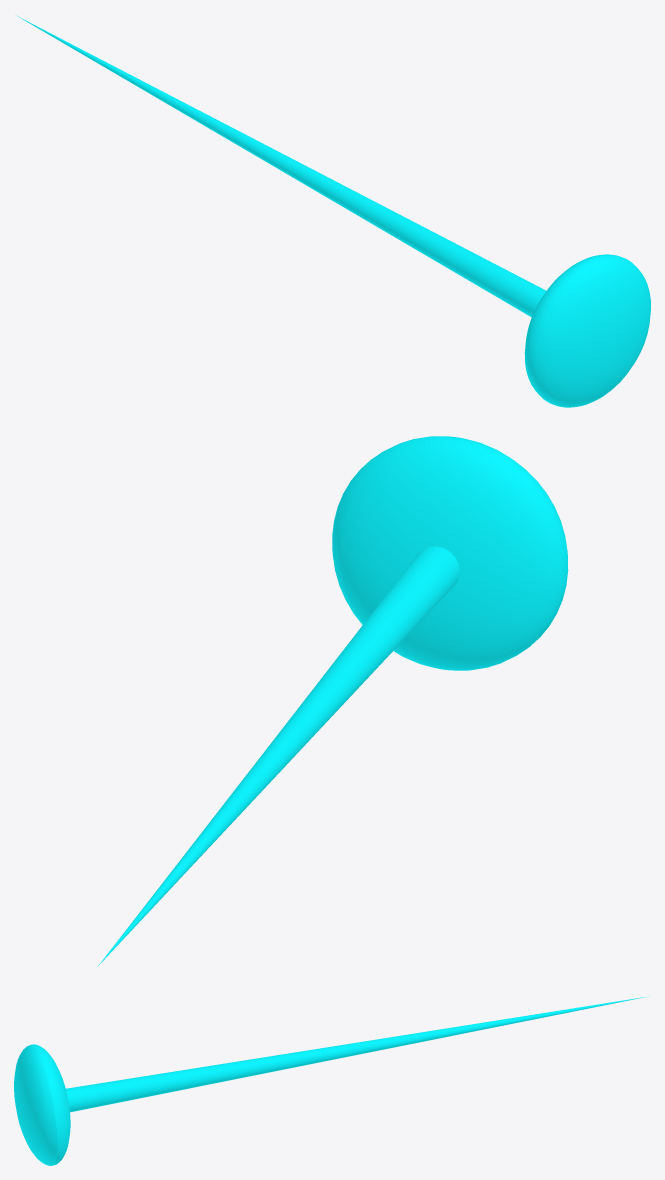
File: nyt_insight__model___Mars_curiosity.glb
The picture shows the model from 3 angles, top to bottom: view 1: azimuth 30°, elevation 25°; view 2: azimuth 150°, elevation 25°; view 3: azimuth 270°, elevation 25°; orthographic projection. The views are drawn at different scales.
Visible parts, largest first — view 1: sphere2; view 2: sphere2; view 3: sphere2.
Part boxes in pixels (x1=…): sphere2: x1=16, y1=15, x2=650, y2=407; sphere2: x1=98, y1=436, x2=568, y2=965; sphere2: x1=14, y1=996, x2=648, y2=1165.
Size of the model in its own units: 0.000337 by 0.000199 by 0.00103.
